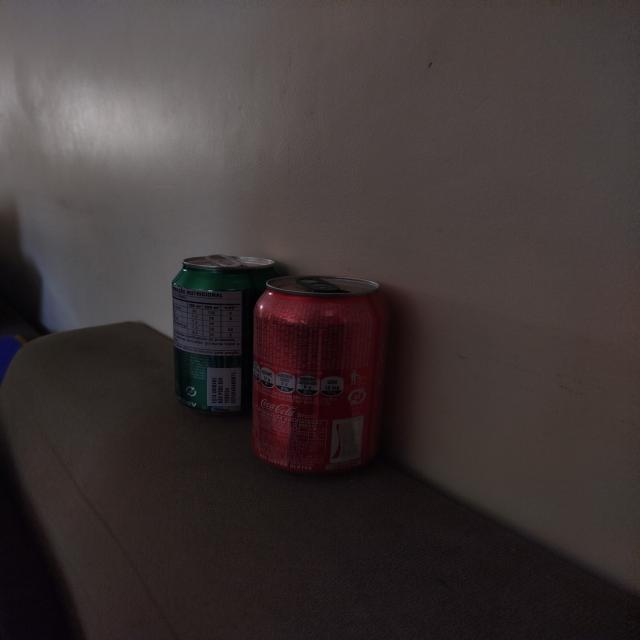Coca Cola: (253, 276, 392, 474)
Guarana: (174, 256, 285, 414)
